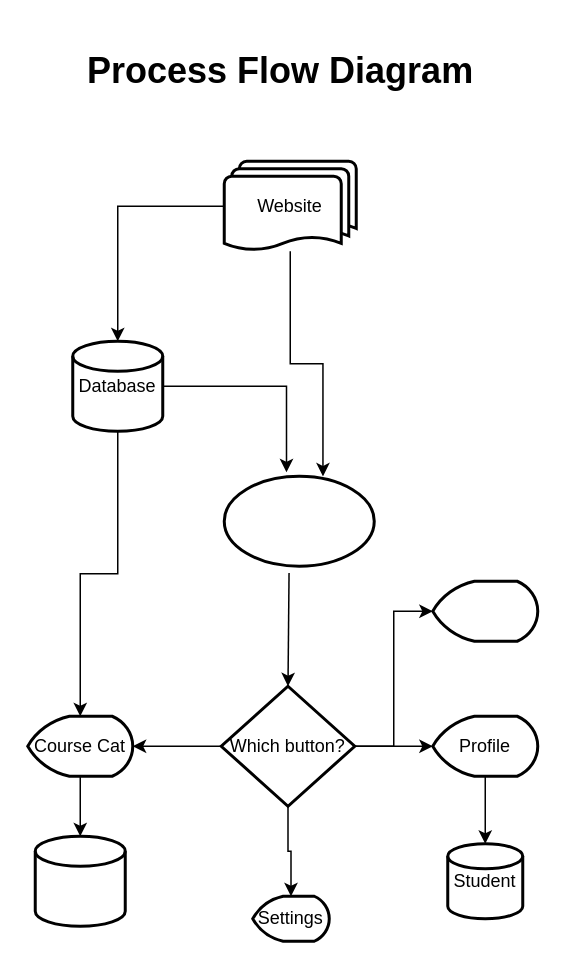
The diagram is 564 pixels wide and 968 high, and some of its shapes have lost their labels. Here are the shapes that lost their labels. From the top down, the box of each, then its label:
(222, 474, 375, 567): Main menu
(430, 579, 538, 642): Share
(33, 834, 126, 927): Classes
